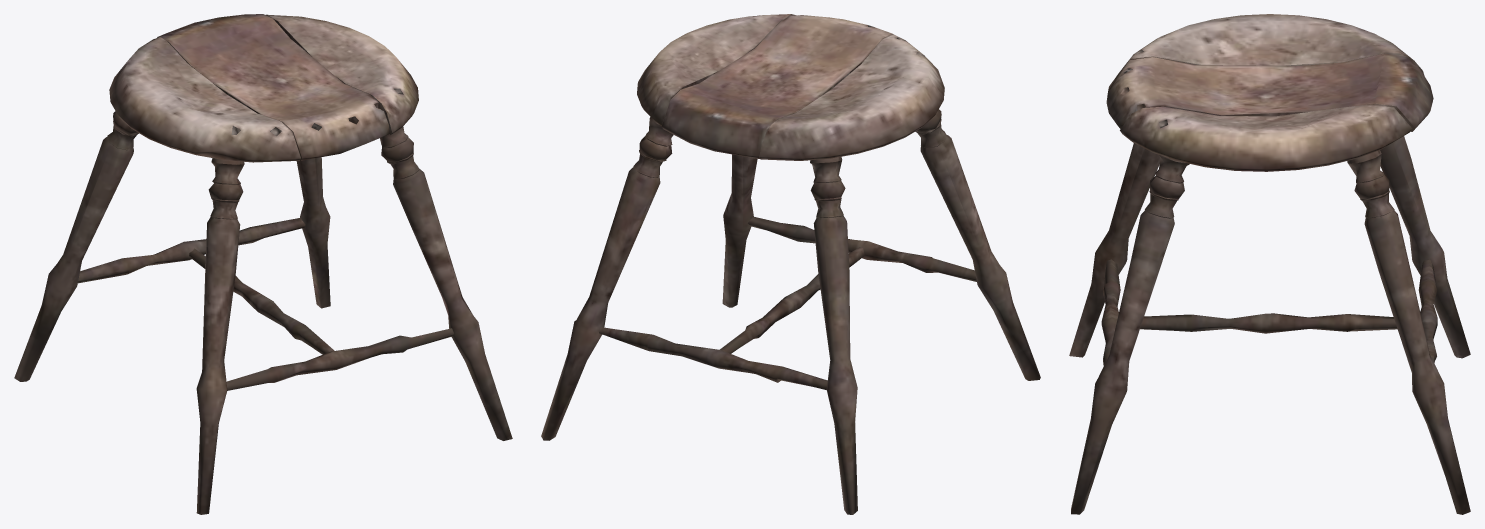
The model's file is ph-wooden-stool-01.lod1.glb.
The picture shows the model from 3 angles, left to right: view 1: azimuth 30°, elevation 25°; view 2: azimuth 150°, elevation 25°; view 3: azimuth 270°, elevation 25°; orthographic projection. The views are drawn at different scales.
Visible parts, largest first — view 1: wooden_stool_01; view 2: wooden_stool_01; view 3: wooden_stool_01.
Part boxes in pixels (x1=…): wooden_stool_01: x1=14, y1=14, x2=512, y2=514; wooden_stool_01: x1=541, y1=14, x2=1040, y2=514; wooden_stool_01: x1=1069, y1=14, x2=1470, y2=514.
Bounding box in the file's own units: 0.4246 × 0.4365 × 0.4411.
1 material, 1 textured.
